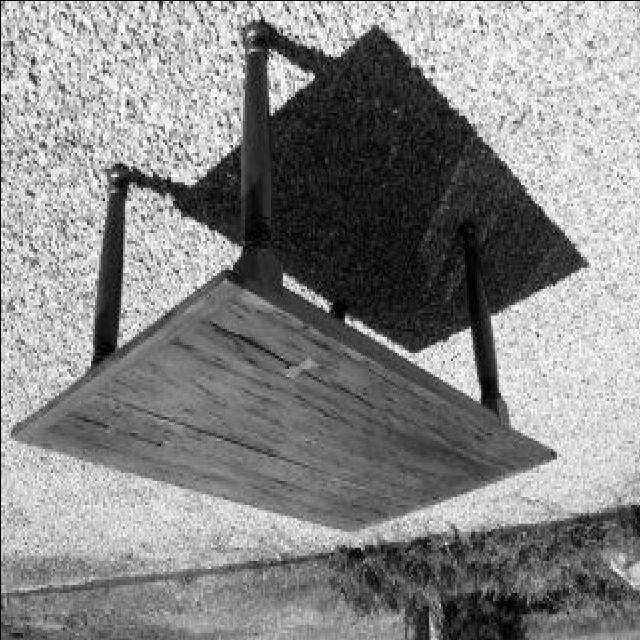table: (12, 28, 556, 534)
